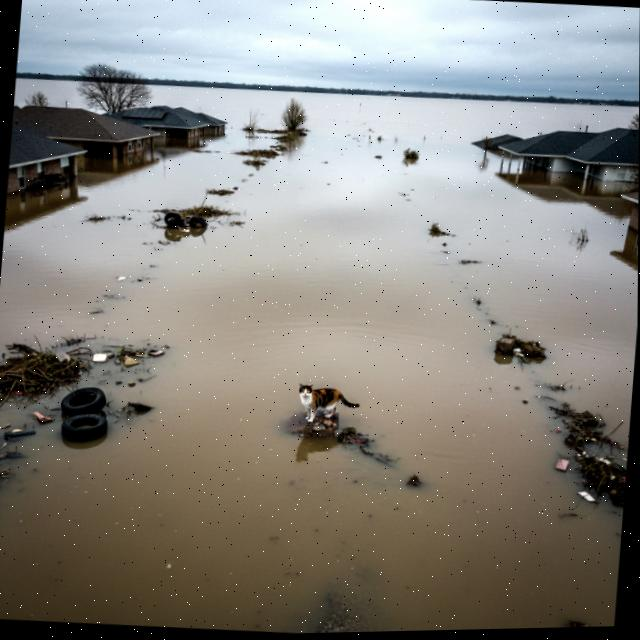cat: (288, 376, 368, 431)
